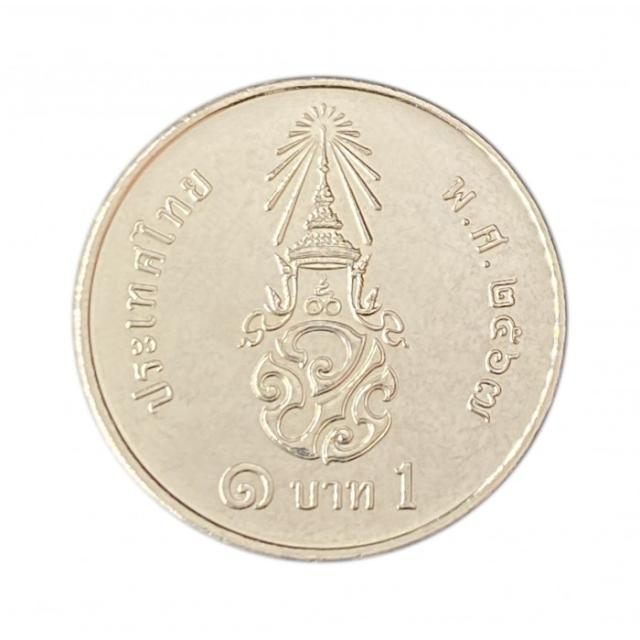1 Bath: (63, 78, 581, 570)
